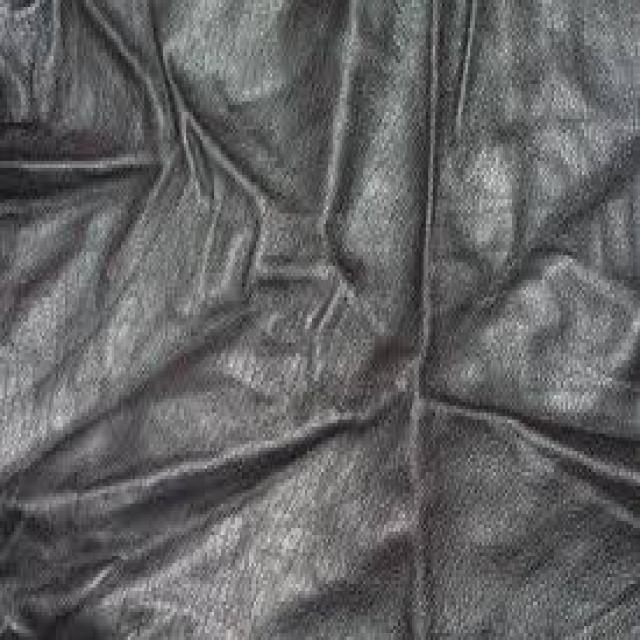Crease: (73, 475, 260, 618), (152, 313, 345, 445), (478, 213, 608, 364), (481, 32, 626, 136)
